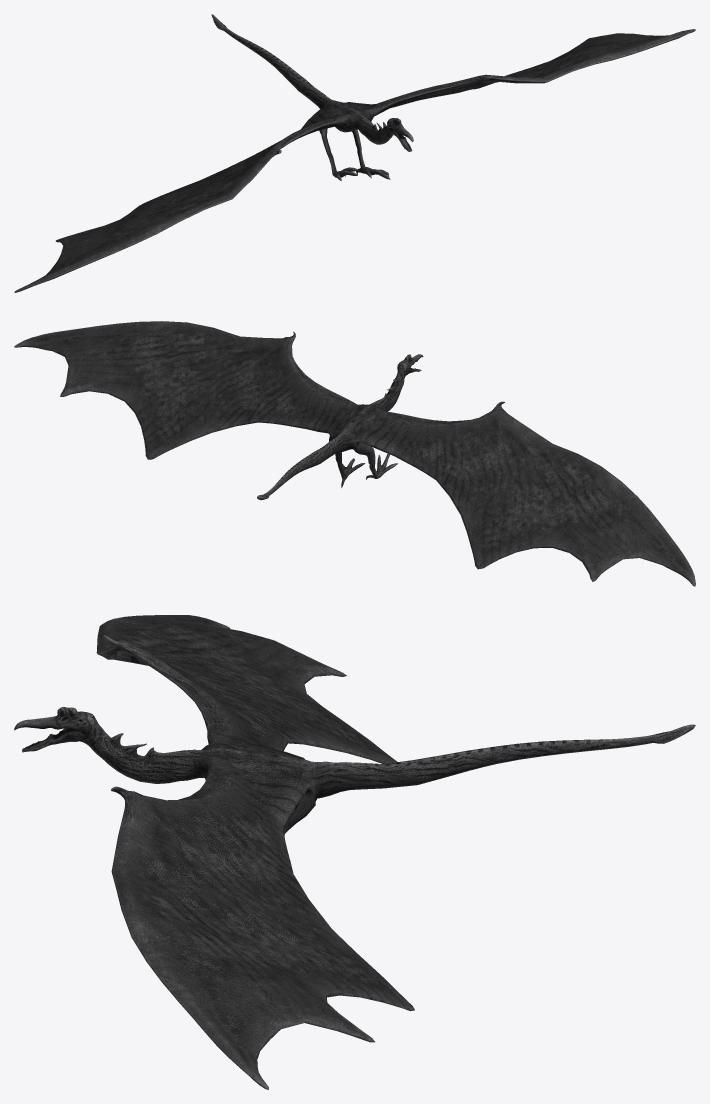
The model's file is Fellbeast_Animate_Grab_Glide_24.obj.
The picture shows the model from 3 angles, top to bottom: view 1: azimuth 30°, elevation 25°; view 2: azimuth 150°, elevation 25°; view 3: azimuth 270°, elevation 25°; orthographic projection. The views are drawn at different scales.
Parts seen in each view (by area): view 1: Fellbeast; view 2: Fellbeast; view 3: Fellbeast.
Boxes of the visible parts, x1=… form: Fellbeast: x1=14, y1=14, x2=695, y2=292; Fellbeast: x1=14, y1=321, x2=695, y2=586; Fellbeast: x1=14, y1=615, x2=695, y2=1089.
Bounding box in the file's own units: 9.35 × 1.69 × 4.36.
